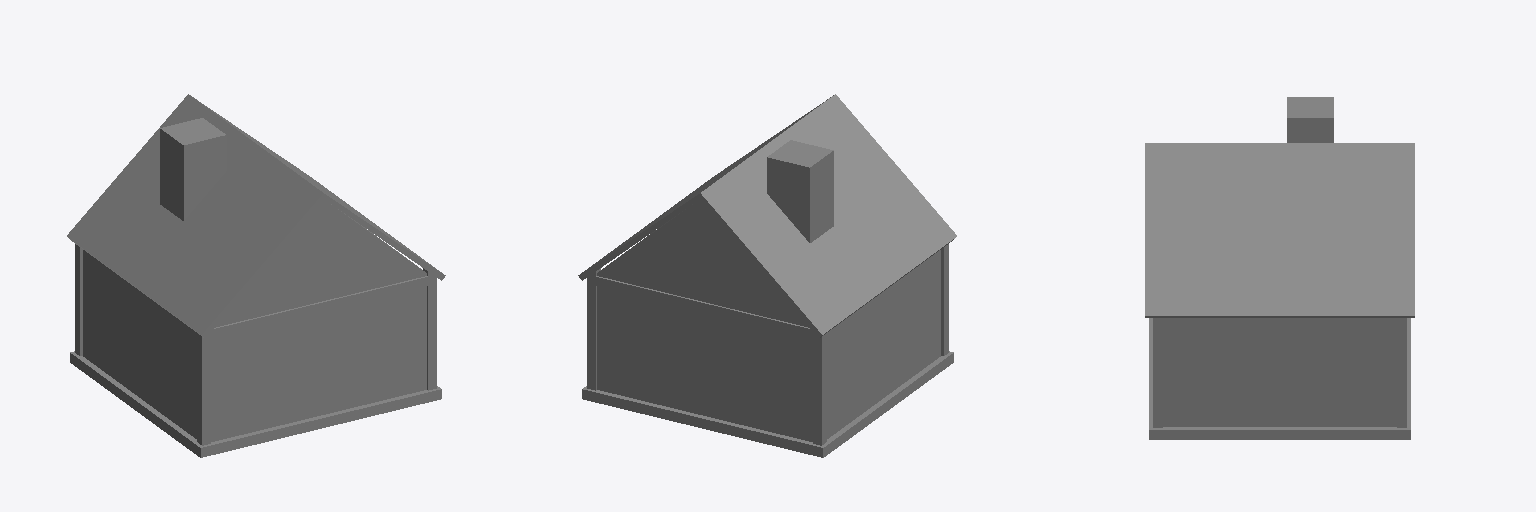
The model's file is Hous_5_Cut.obj.
The picture shows the model from 3 angles: view 1: azimuth 30°, elevation 25°; view 2: azimuth 150°, elevation 25°; view 3: azimuth 270°, elevation 25°; orthographic projection.
Parts seen in each view (by area): view 1: House5_T, House5_R; view 2: House5_T, House5_R; view 3: House5_R, House5_T.
Part boxes in pixels (bbox=[...]): House5_T: bbox=[70, 199, 441, 457]; House5_R: bbox=[67, 94, 445, 338]; House5_T: bbox=[582, 199, 953, 457]; House5_R: bbox=[578, 94, 956, 338]; House5_R: bbox=[1145, 97, 1414, 317]; House5_T: bbox=[1149, 318, 1410, 439].
Bounding box in the file's own units: 6.38 × 6.23 × 6.12.